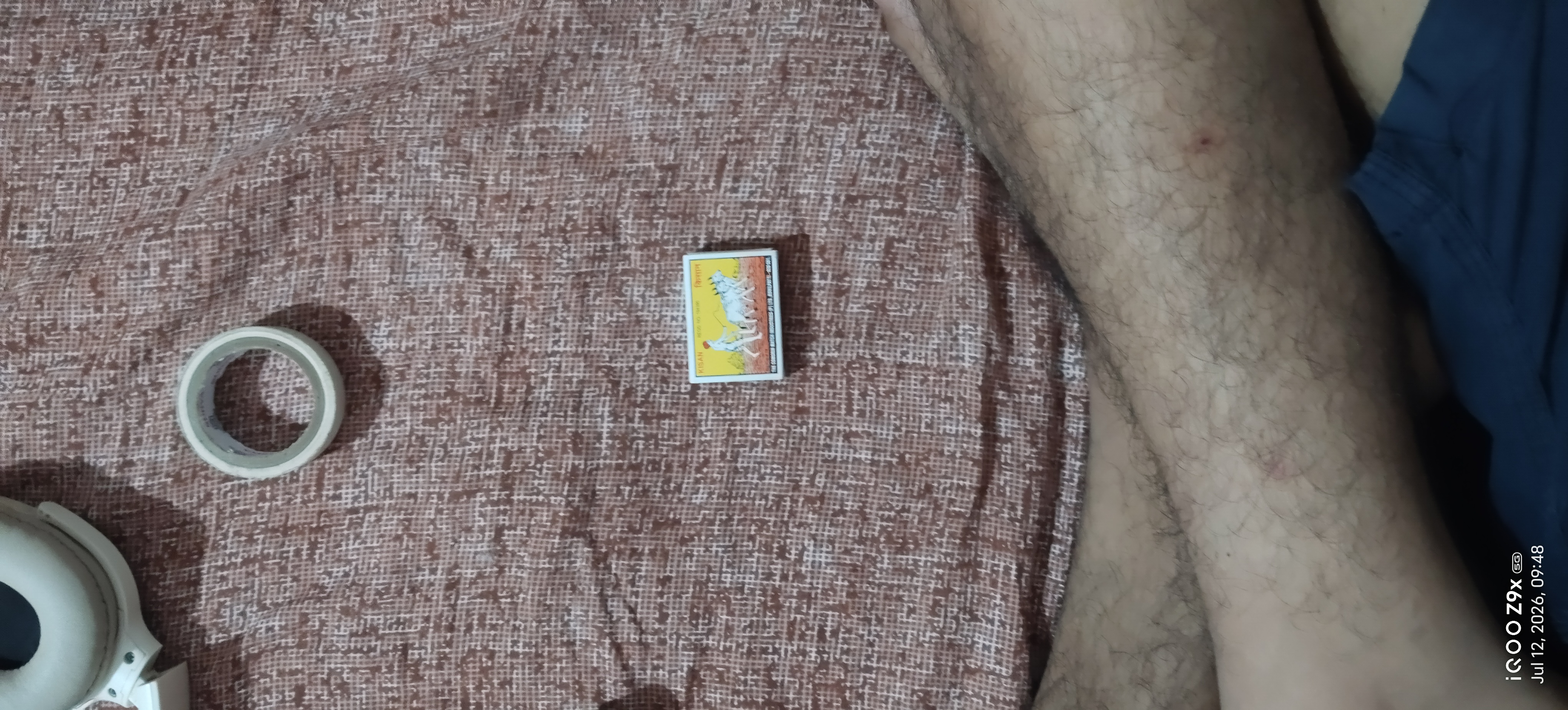matchbox: (663, 232, 805, 403)
tape_roll: (168, 317, 358, 497)
